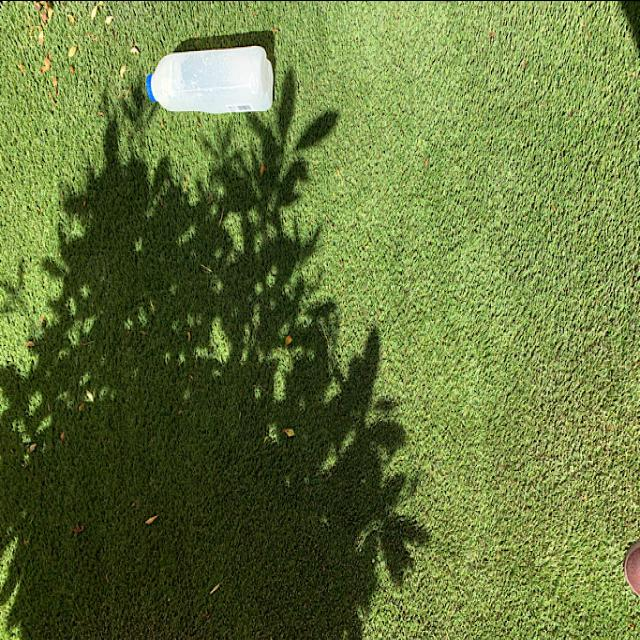HDPEM: (143, 40, 280, 116)
